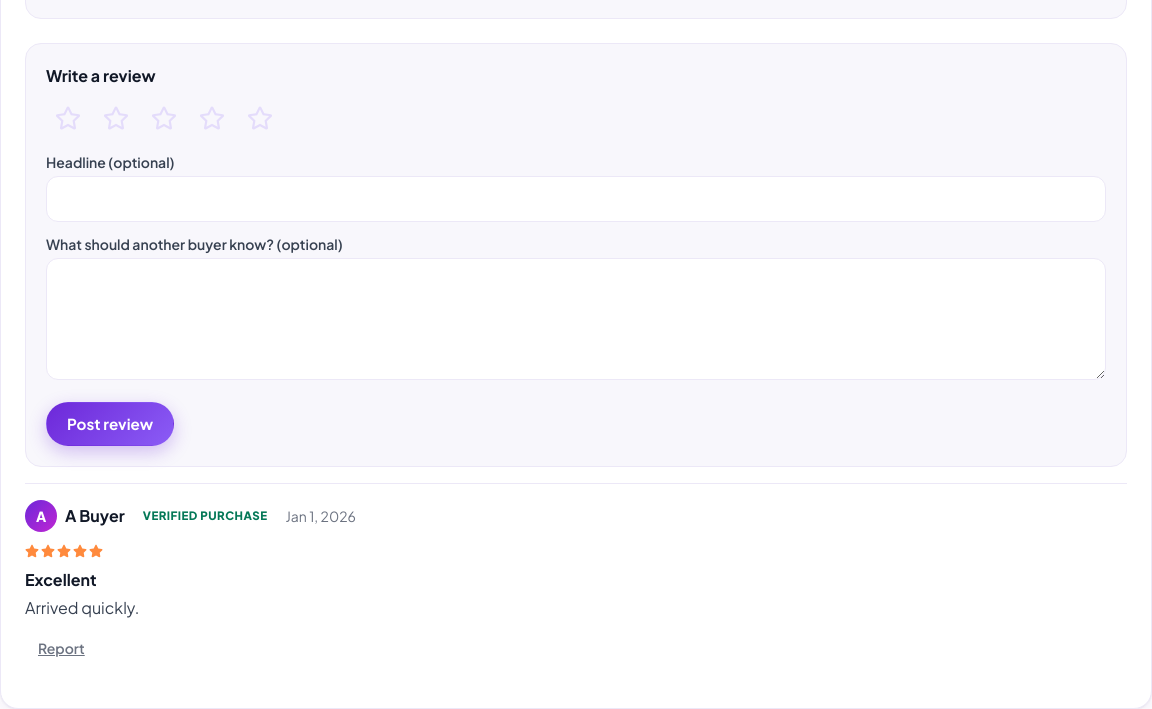
Test: reporting a review › says so once it has been sent, and does not send twice
(page scrolled)
Click the button "Report": (61, 648) [25,628,98,668]
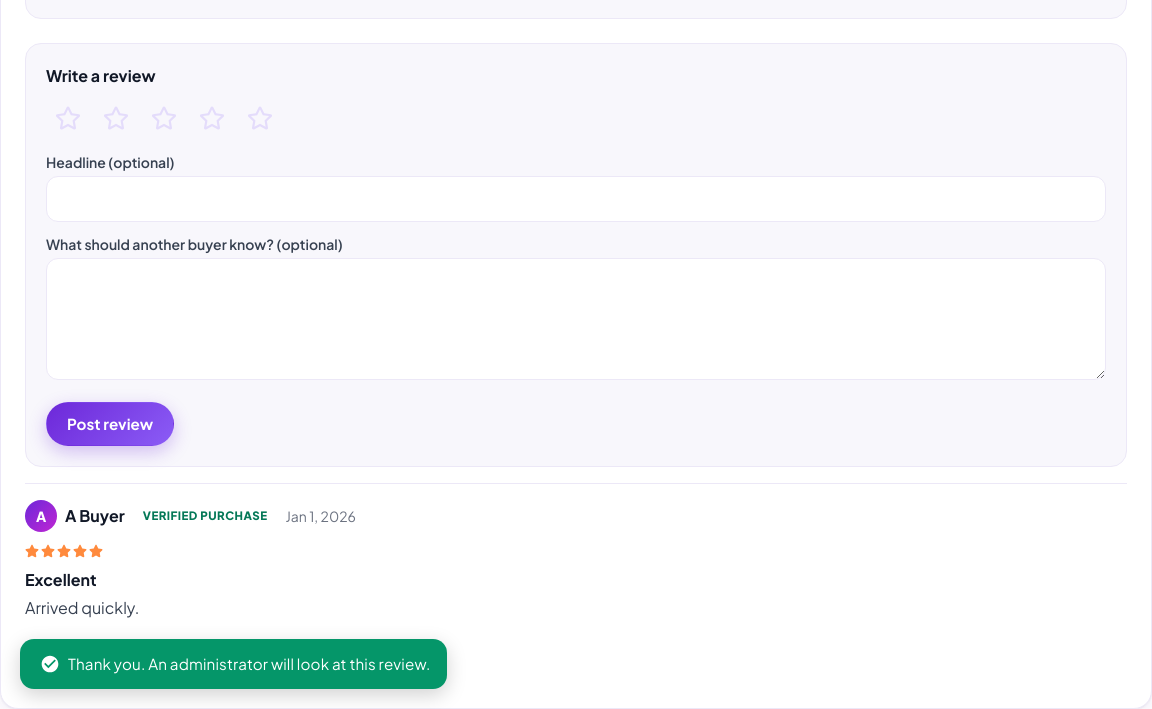
Now the button "Reported" is disabled, box [25,628,116,668]
